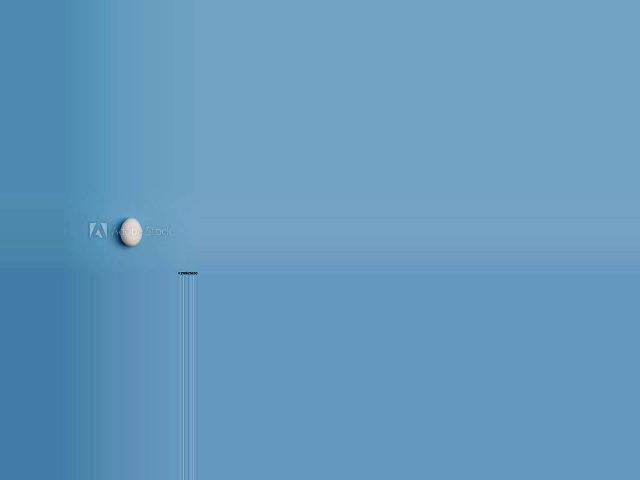egg: (120, 219, 142, 246)
